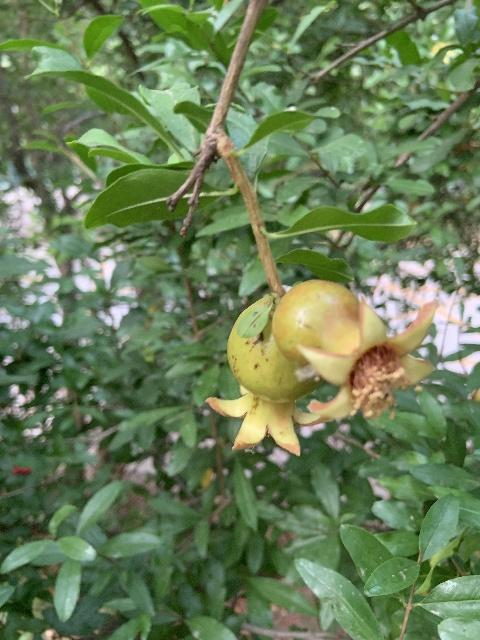early-fruit: (273, 280, 438, 423)
mid-growth: (205, 294, 327, 458)
